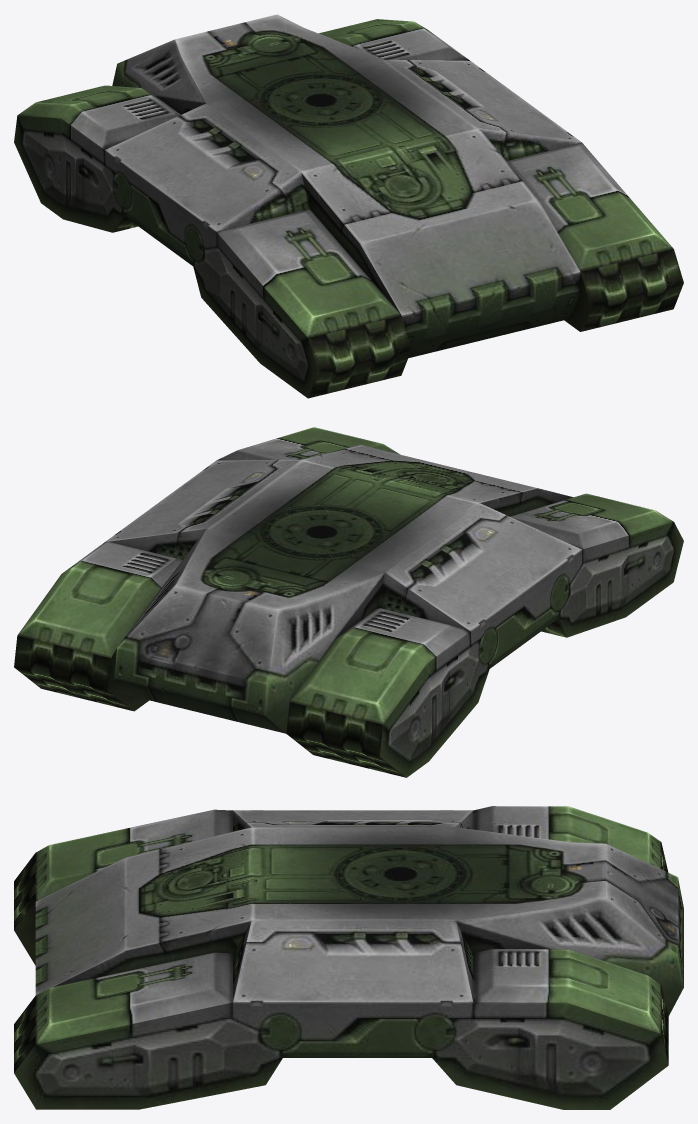
File: jug_v1.gltf
The picture shows the model from 3 angles, top to bottom: view 1: azimuth 30°, elevation 25°; view 2: azimuth 150°, elevation 25°; view 3: azimuth 270°, elevation 25°; orthographic projection. The views are drawn at different scales.
Visible parts, largest first — view 1: hull; view 2: hull; view 3: hull.
Part boxes in pixels (x1=…): hull: x1=14, y1=14, x2=683, y2=398; hull: x1=14, y1=427, x2=683, y2=777; hull: x1=14, y1=806, x2=683, y2=1109.
Size of the model in its own units: 4.92 by 1.71 by 7.25.
Materials: 1 (1 with a texture image).
